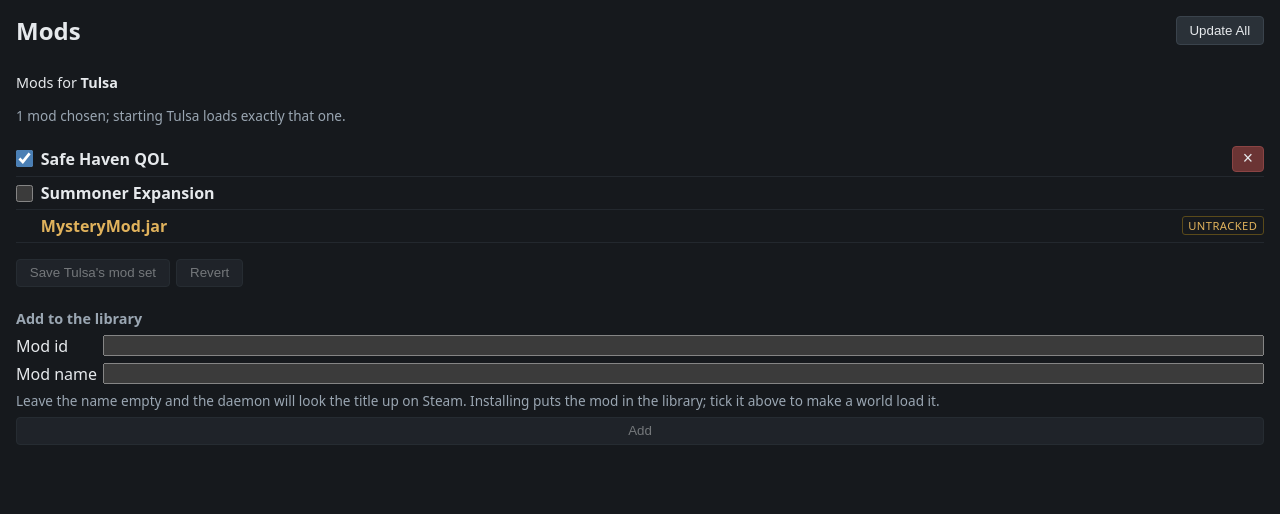
Test case: ModsPanel changing a set › saves the ticked ids and reports what the world will load next start
This screenshot has width=1280, height=514.
Click the checkbox labelled "Summoner Expansion". click: (24, 193)
box: [16, 185, 33, 202]
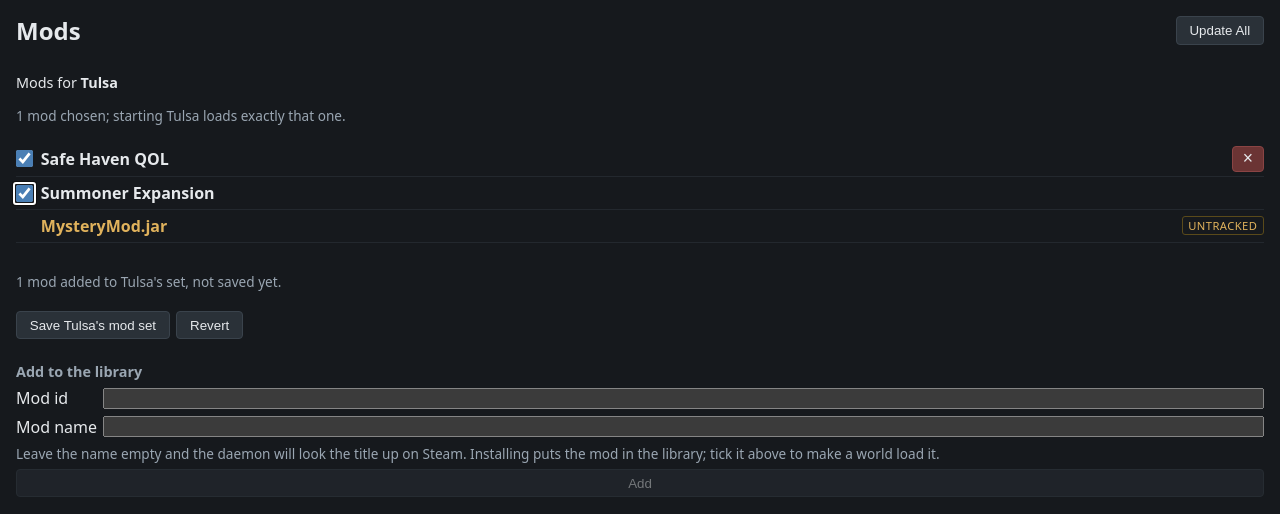
Click the button "Save Tulsa's mod set". click: (93, 325)
box: [16, 311, 170, 339]
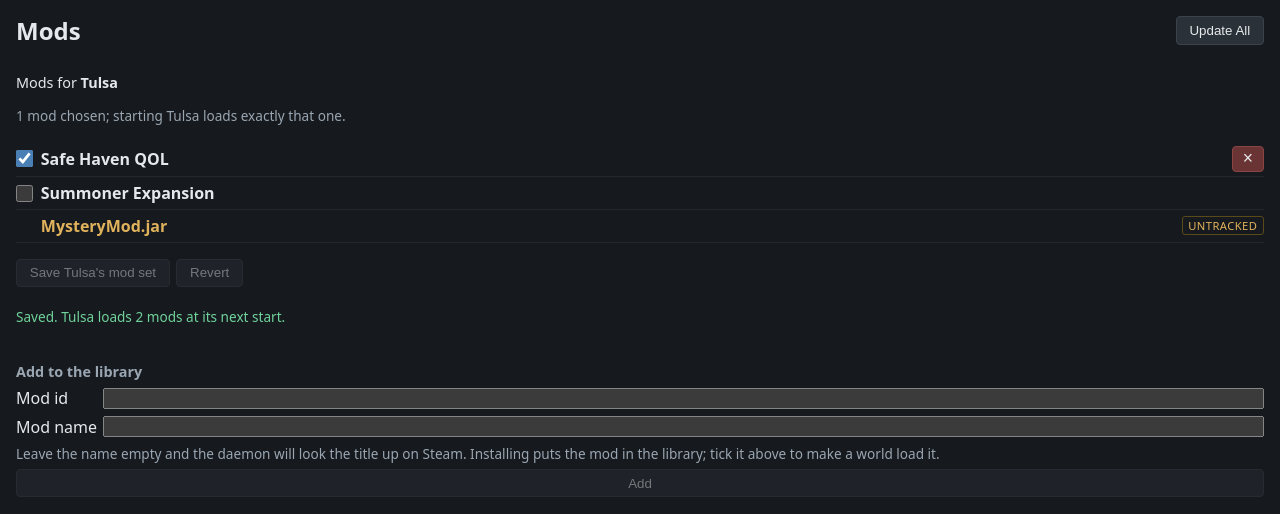
Expected: the text "Saved. Tulsa loads 2 mods at its next start." is shown, [16, 307, 285, 326]
